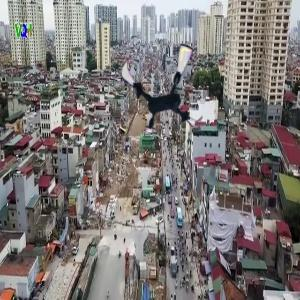drone: (118, 41, 212, 135)
